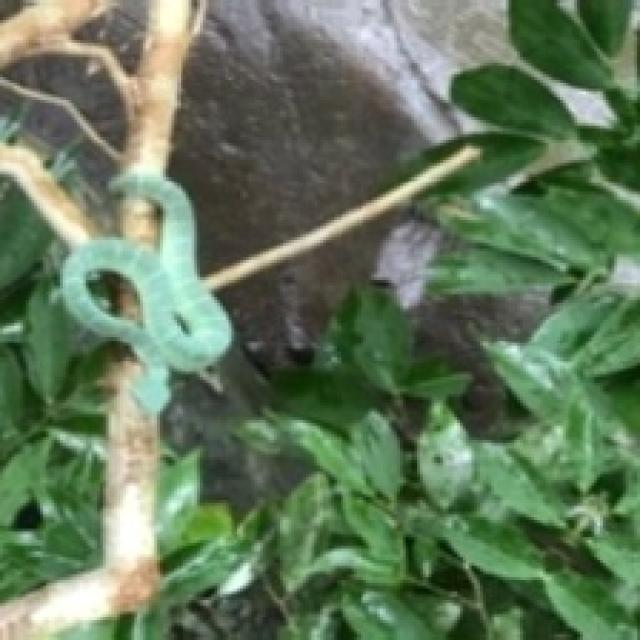north ph temple pitviper: (31, 169, 229, 411)
